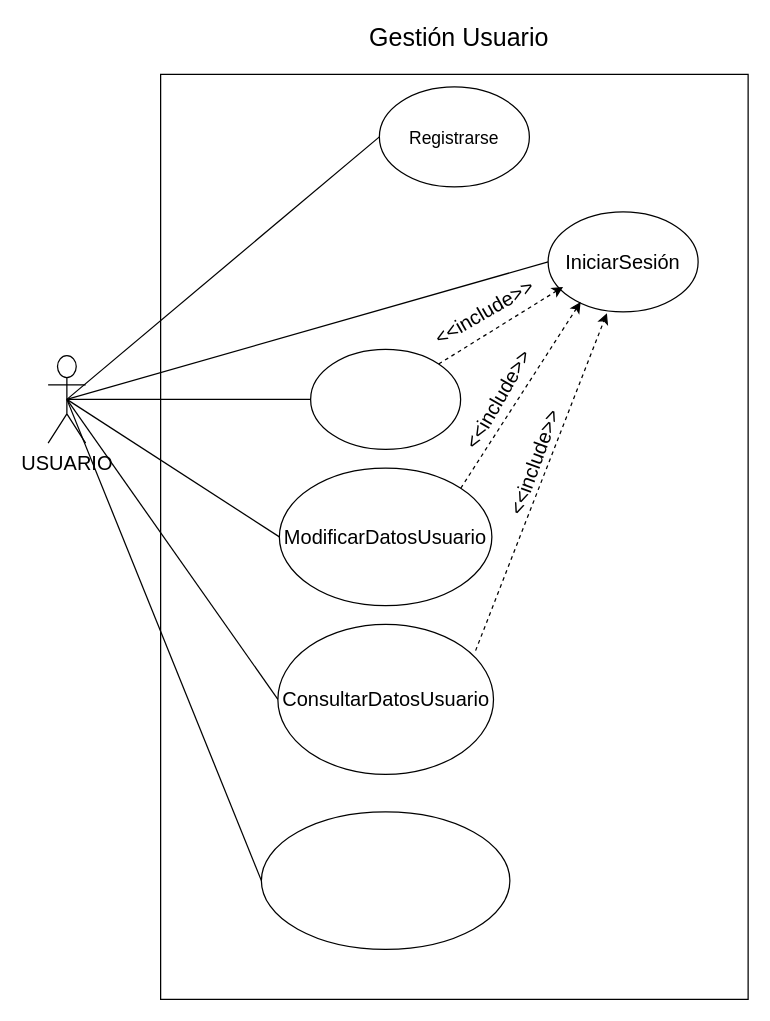
The diagram is 770 pixels wide and 1021 high, and some of its shapes have lost their labels. Here are the shapes that lost their labels. From the top down, the centre of each, then its label:
At point (385, 398): "CerrarSesión".
At point (385, 880): "RecuperarContraseña".
